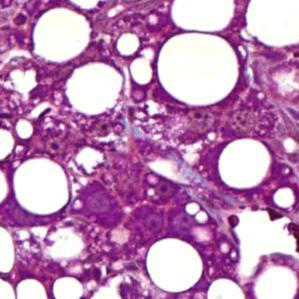steatosis: (157, 34, 245, 105), (145, 235, 208, 297), (11, 156, 70, 216), (29, 9, 94, 62), (66, 61, 126, 115), (218, 137, 269, 188)
